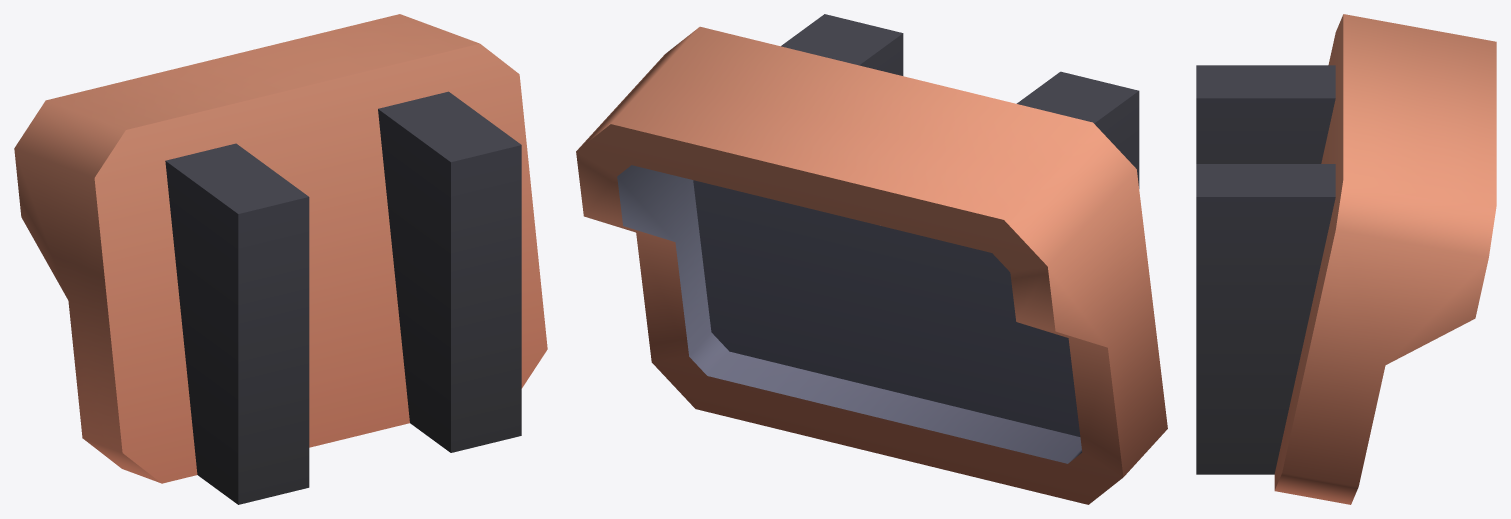
Rendered from screen-hanging-wide.obj.
The picture shows the model from 3 angles, left to right: view 1: azimuth 30°, elevation 25°; view 2: azimuth 150°, elevation 25°; view 3: azimuth 270°, elevation 25°; orthographic projection. The views are drawn at different scales.
Parts seen in each view (by area): view 1: screen-hanging-wide; view 2: screen-hanging-wide; view 3: screen-hanging-wide.
Boxes of the visible parts, <box> form: screen-hanging-wide: <box>14,14,547,504</box>; screen-hanging-wide: <box>576,14,1167,504</box>; screen-hanging-wide: <box>1196,14,1496,504</box>.
Size of the model in its own units: 0.9 by 0.6913 by 0.5766.
